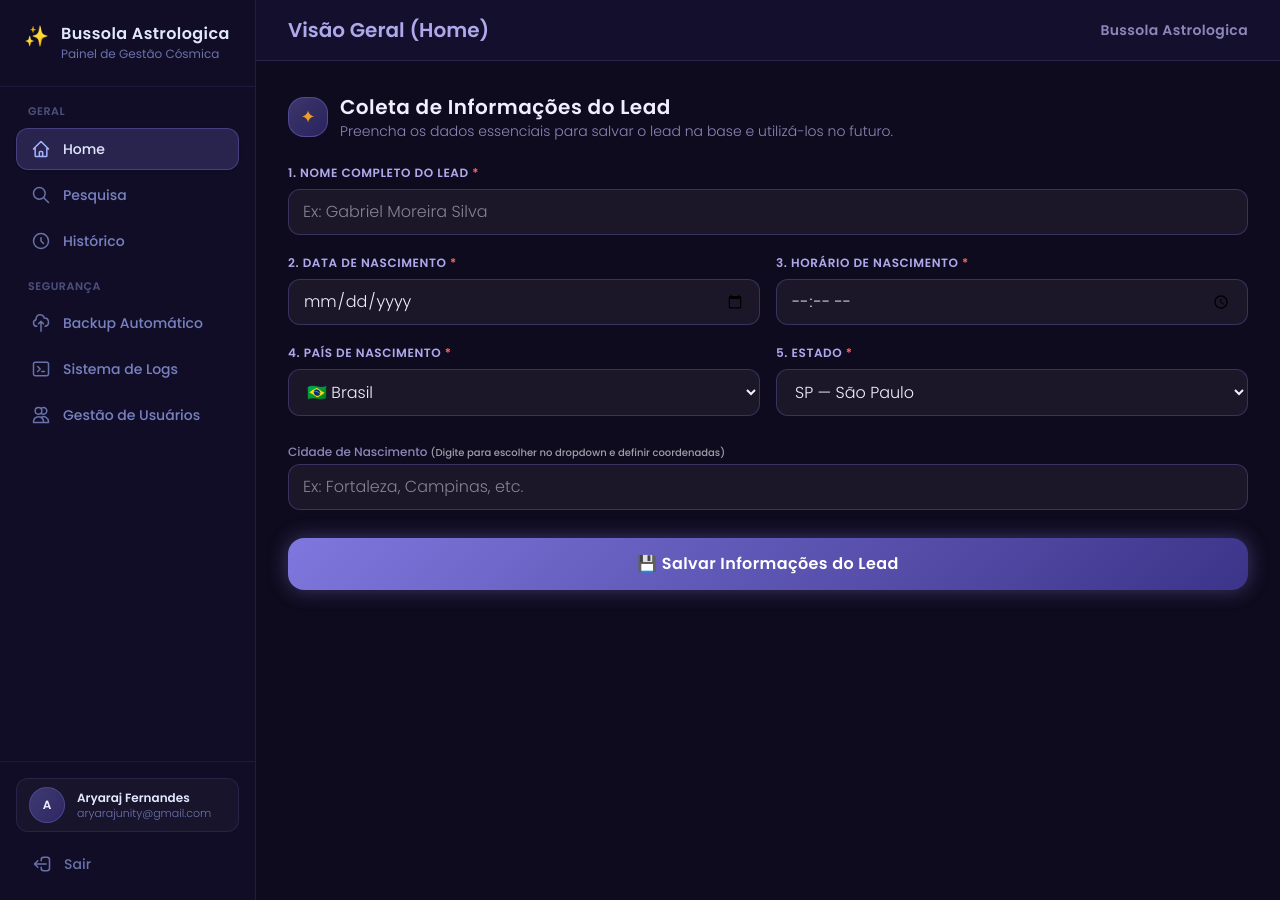
Test case: AdminLayout Navegação e Painel › permite navegar para a aba Gestão de Usuários ao clicar no botão da barra lateral
Click the button "Gestão de Usuários": (128, 415) [16, 394, 239, 436]
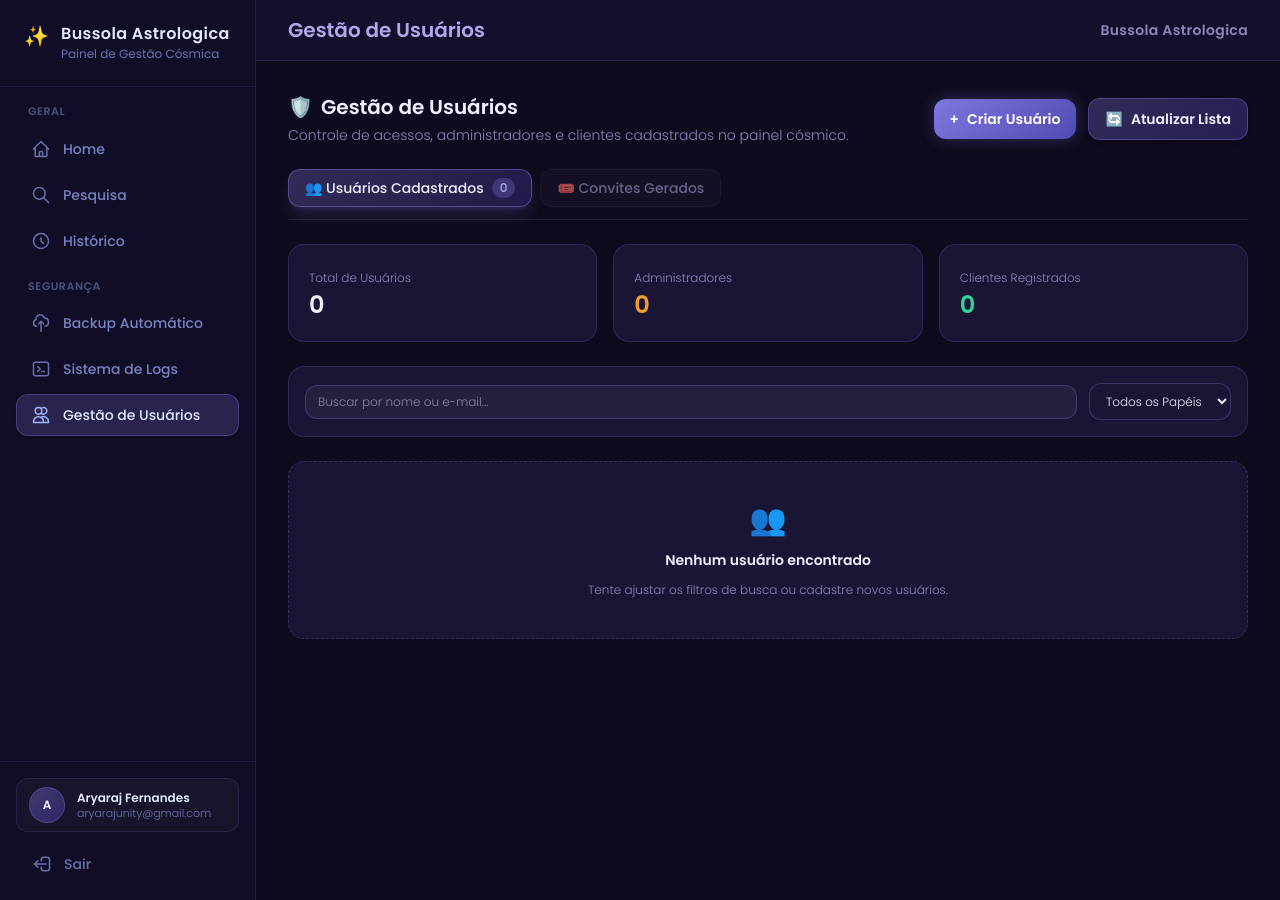
Result: the heading "Gestão de Usuários" is shown at [288, 16, 485, 44]
